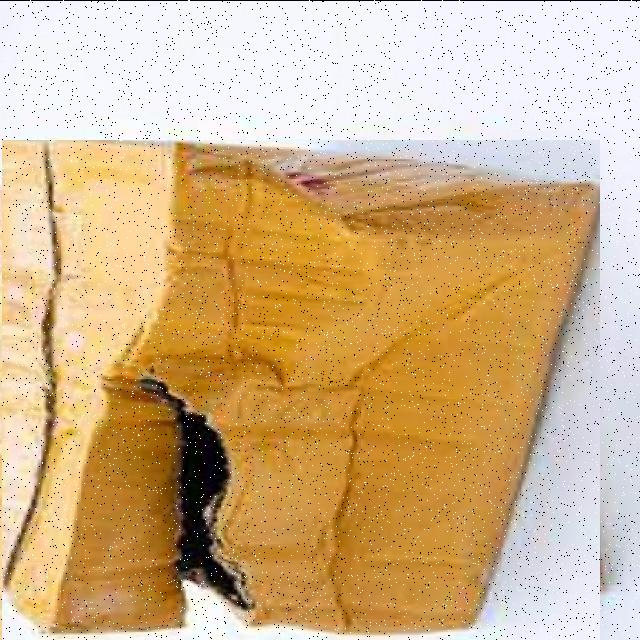defect: (2, 138, 600, 638)
